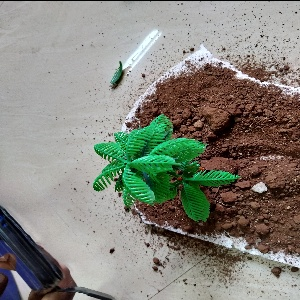plant: (90, 118, 228, 224)
